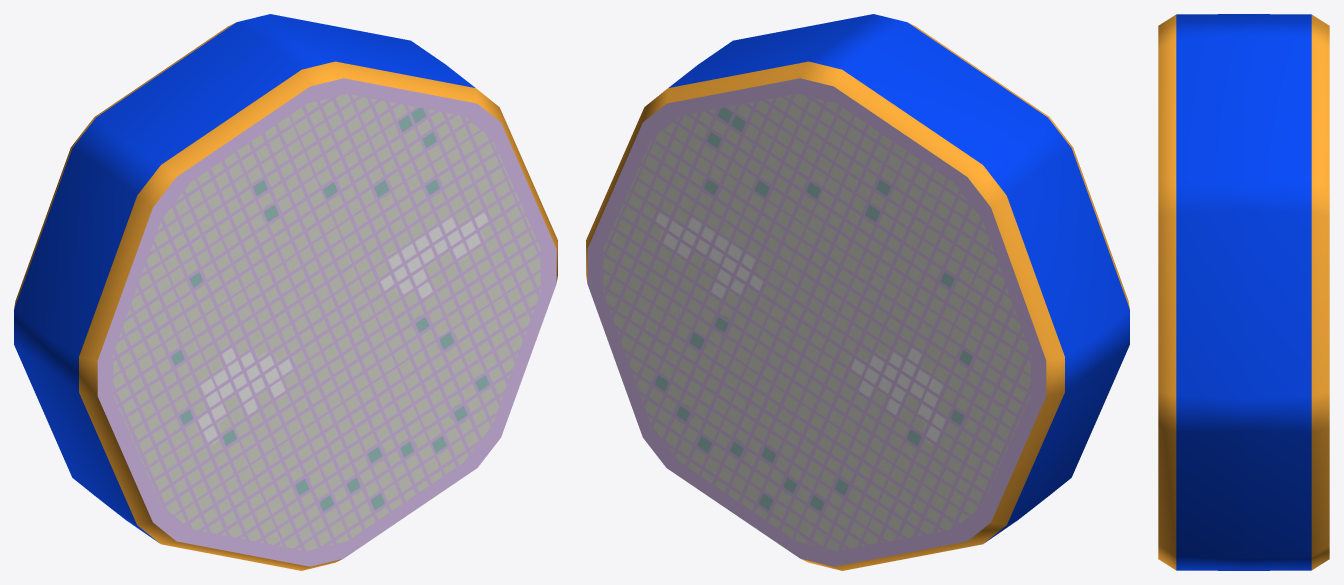
The model's file is OBS0110019.fbx.
3 views of the same model, side by side, from view 1: azimuth 30°, elevation 25°; view 2: azimuth 150°, elevation 25°; view 3: azimuth 270°, elevation 25° (orthographic). The views are drawn at different scales.
Visible parts, largest first — view 1: smOBS0110019; view 2: smOBS0110019; view 3: smOBS0110019.
Boxes of the visible parts, box(x1,y1,x2,y2) form: smOBS0110019: box(14, 14, 557, 570); smOBS0110019: box(586, 14, 1129, 570); smOBS0110019: box(1158, 14, 1329, 570).
Size of the model in its own units: 330 by 330 by 97.38.
Materials: 1 (1 with a texture image).
